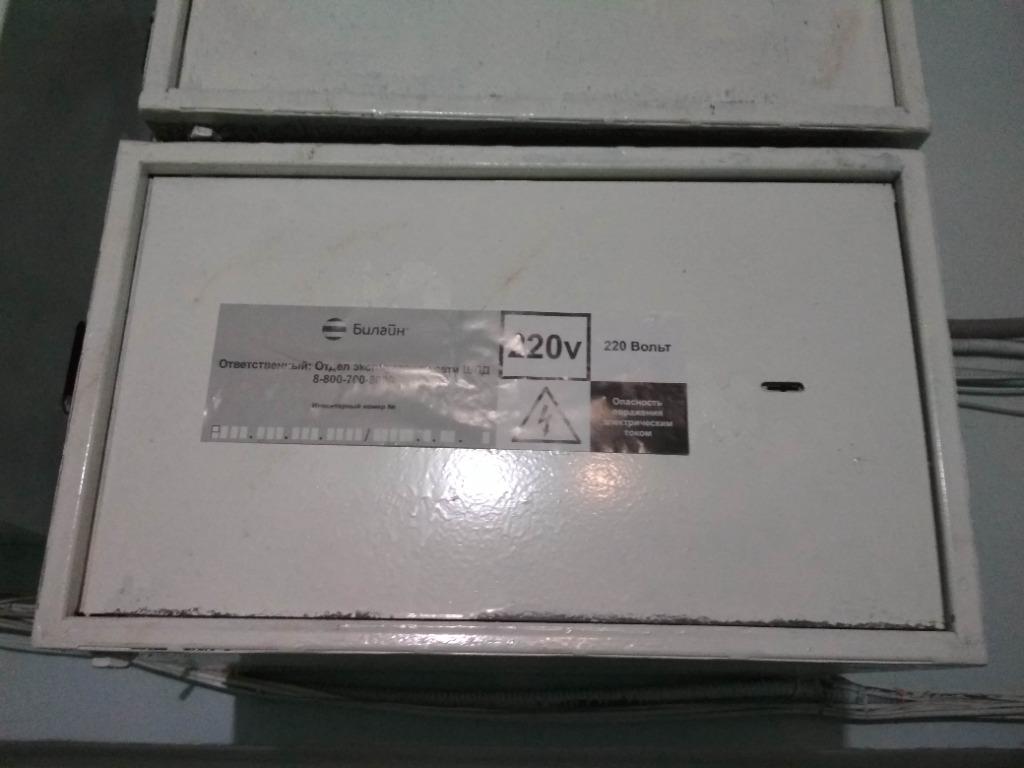e2-6u: (22, 126, 997, 669)
